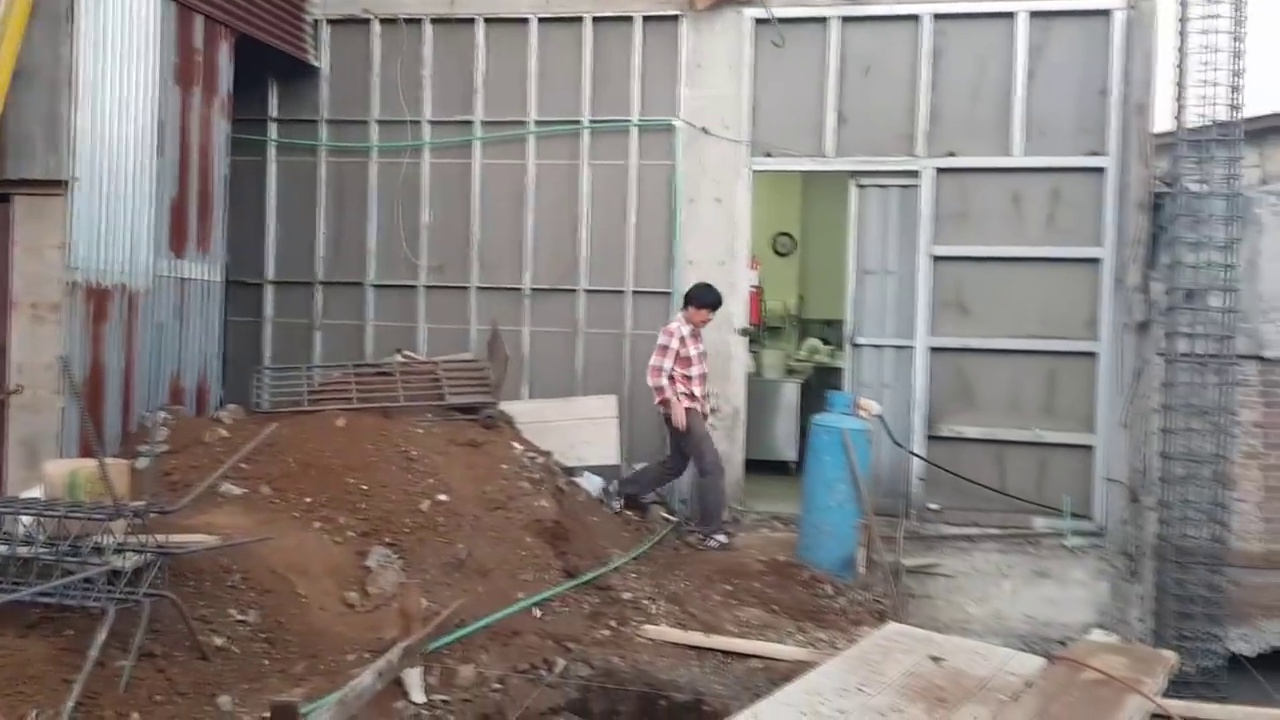helmet-off: (684, 287, 727, 334)
person: (624, 282, 750, 577)
